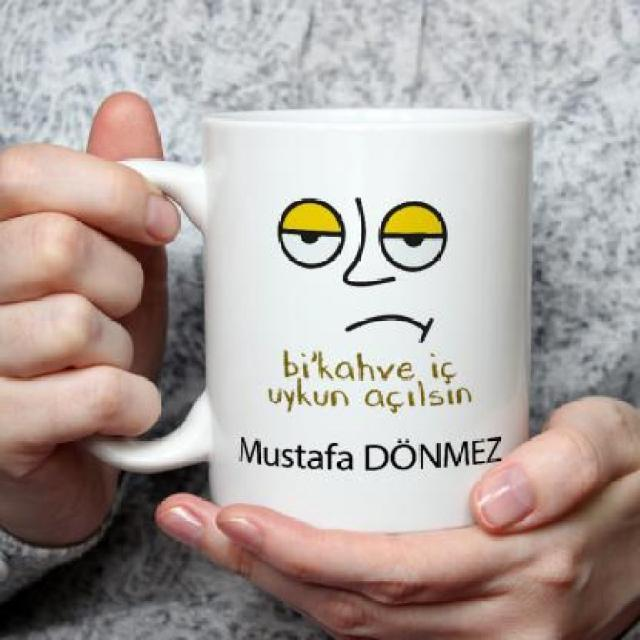taza: (62, 105, 540, 540)
